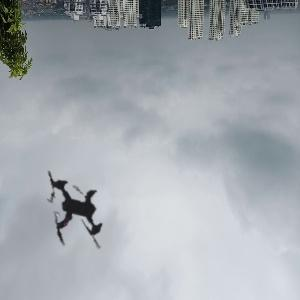drone: (9, 145, 140, 276)
